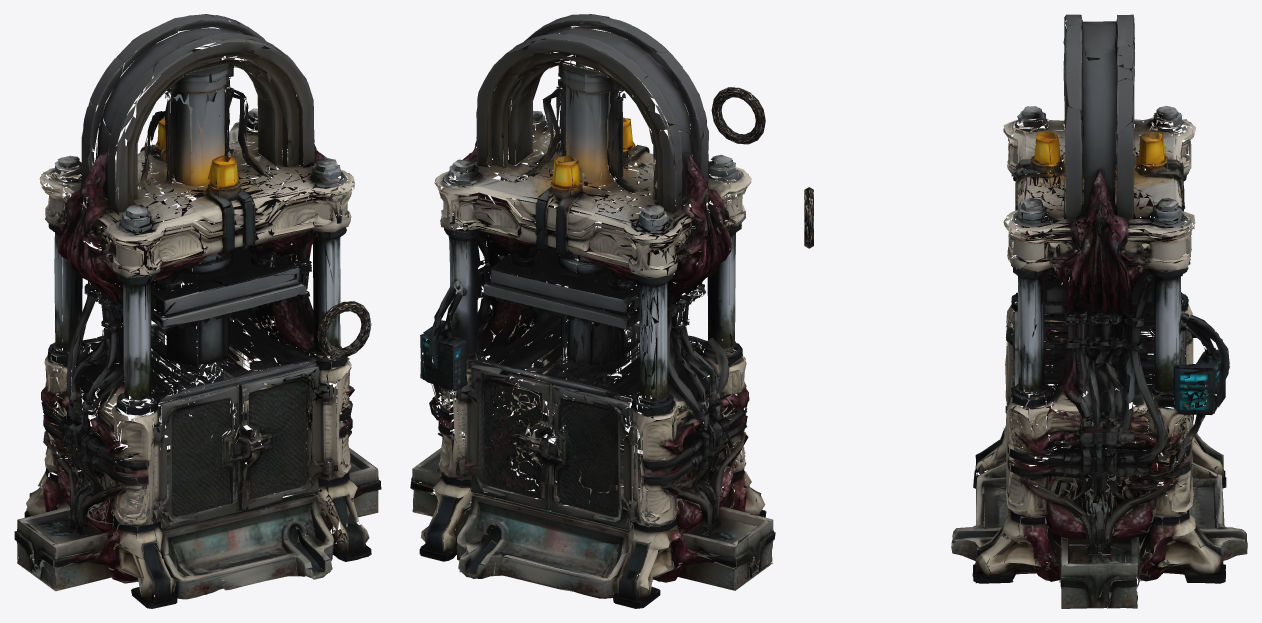
Rendered from sump_caustic_barrel_crusher.glb.
The picture shows the model from 3 angles, left to right: view 1: azimuth 30°, elevation 25°; view 2: azimuth 150°, elevation 25°; view 3: azimuth 270°, elevation 25°; orthographic projection.
Visible parts, largest first — view 1: node_0, HB_ROTOR_00; view 2: node_0, HB_ROTOR_00; view 3: node_0, HB_ROTOR_00.
Part boxes in pixels (x1,y1,x2,y2): node_0: (14,14,381,608); HB_ROTOR_00: (317,301,371,358); node_0: (410,14,775,608); HB_ROTOR_00: (711,87,765,144); node_0: (951,14,1247,608); HB_ROTOR_00: (804,187,813,248).
Bounding box in the file's own units: 0.6746 × 0.9969 × 0.7902.
Materials: 1 (1 with a texture image).
